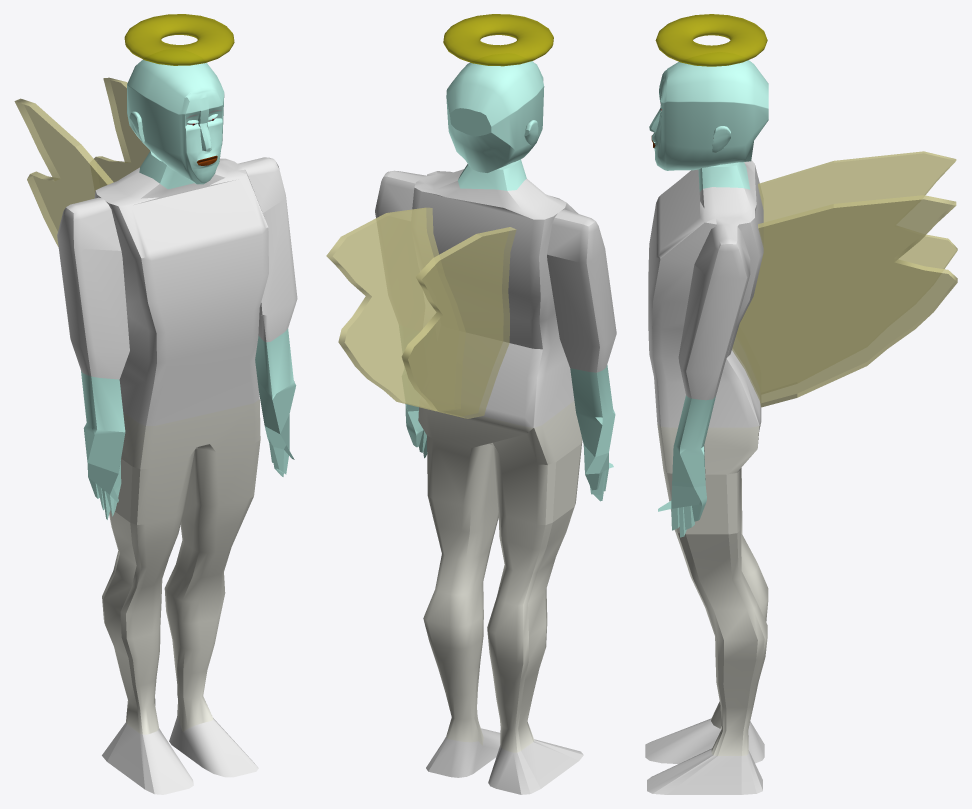
File: angel_japan.fbx
3 views of the same model, side by side, from view 1: azimuth 30°, elevation 25°; view 2: azimuth 150°, elevation 25°; view 3: azimuth 270°, elevation 25° (orthographic).
Parts seen in each view (by area): view 1: pCube3, pasted__pCube2, pasted__pCube4, pTorus1, pCube4; view 2: pCube3, pasted__pCube4, pCube4, pasted__pCube2, pTorus1; view 3: pCube3, pCube4, pasted__pCube2, pasted__pCube4, pTorus1.
Boxes of the visible parts, x1,y1,x2,y2 form: pCube3: (57, 151, 297, 794); pasted__pCube2: (127, 59, 224, 184); pasted__pCube4: (14, 98, 113, 246); pTorus1: (124, 14, 234, 65); pCube4: (94, 77, 150, 182); pCube3: (375, 159, 616, 794); pasted__pCube4: (401, 227, 516, 418); pCube4: (326, 207, 438, 411); pasted__pCube2: (446, 61, 544, 172); pTorus1: (443, 14, 553, 66); pCube3: (645, 160, 768, 794); pCube4: (732, 195, 957, 407); pasted__pCube2: (649, 60, 768, 170); pasted__pCube4: (758, 151, 957, 269); pTorus1: (655, 14, 767, 66).
Size of the model in its own units: 8.83 by 28.49 by 10.97.
